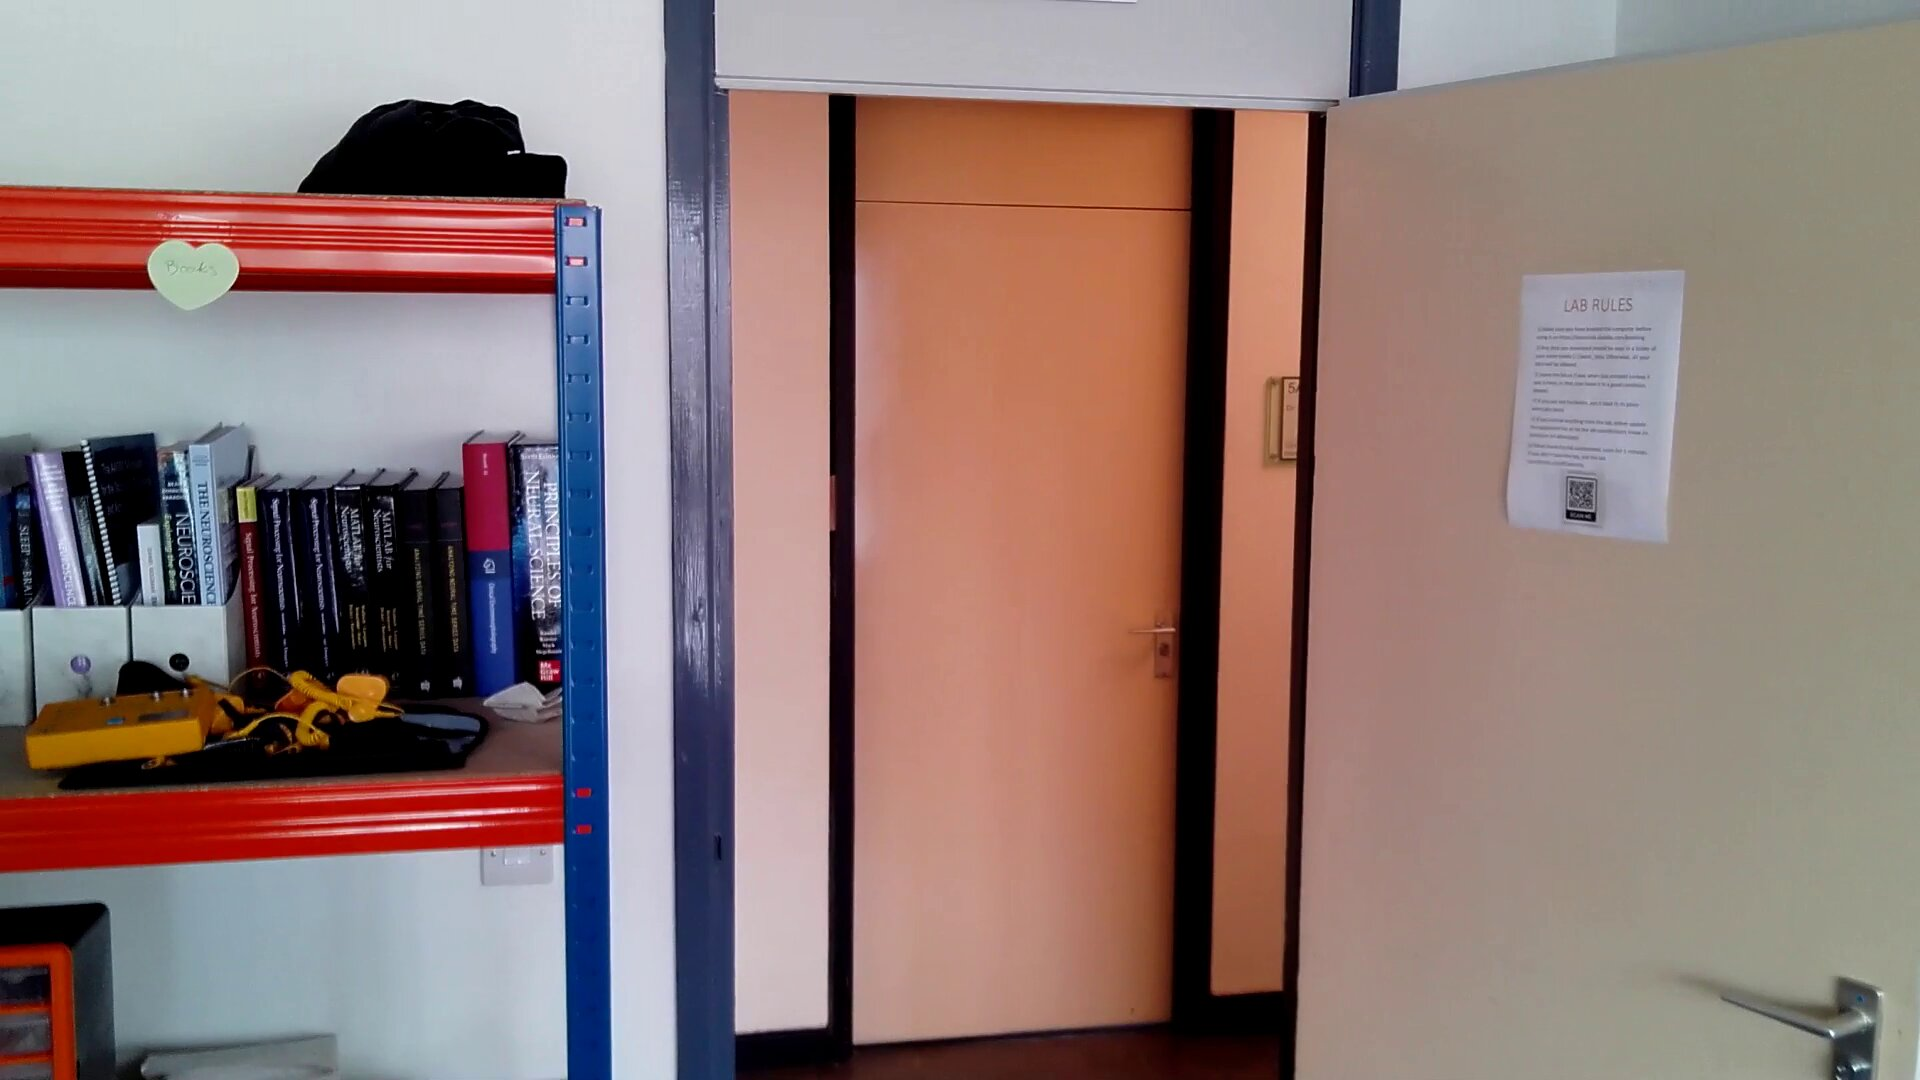Door: (1305, 87, 1920, 1080), (825, 191, 1211, 1033)
